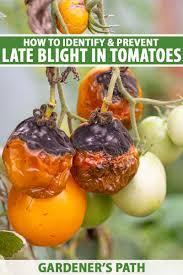tomato late blight: (9, 111, 76, 200), (72, 112, 140, 197), (78, 67, 144, 152)
